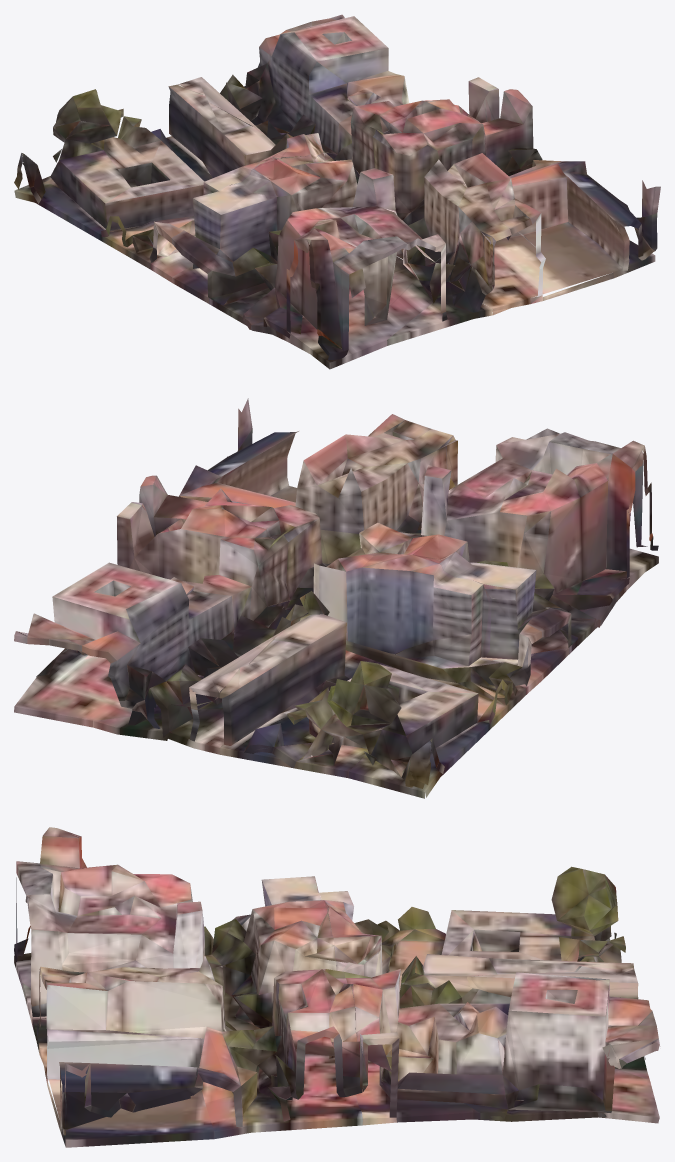
3 views of the same model, one above another, from view 1: azimuth 30°, elevation 25°; view 2: azimuth 150°, elevation 25°; view 3: azimuth 270°, elevation 25° (orthographic). The views are drawn at different scales.
Parts seen in each view (by area): view 1: Mesh_0; view 2: Mesh_0; view 3: Mesh_0.
Part boxes in pixels (bbox=[...]): Mesh_0: bbox=[14, 14, 660, 369]; Mesh_0: bbox=[14, 398, 658, 798]; Mesh_0: bbox=[14, 827, 660, 1147].
Size of the model in its own units: 135 by 40.11 by 165.
1 material, 1 textured.
